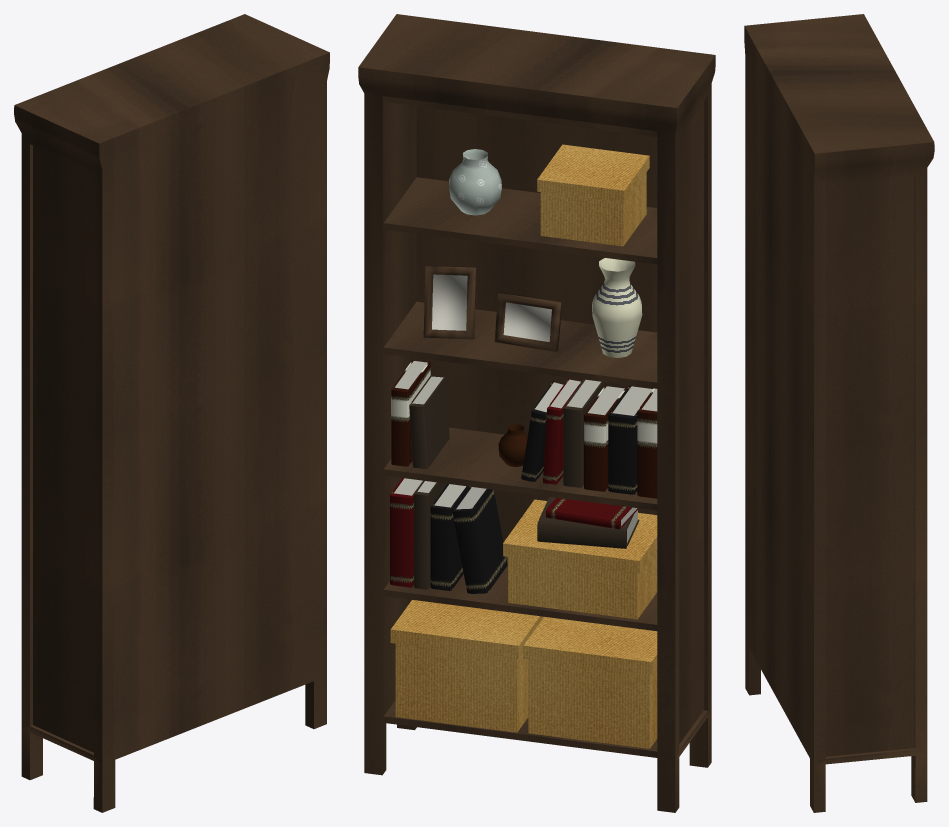
Rendered from bookcasetextured2.fbx.
3 renders of one model, left to right at view 1: azimuth 30°, elevation 25°; view 2: azimuth 150°, elevation 25°; view 3: azimuth 270°, elevation 25°, orthographic. The views are drawn at different scales.
Parts seen in each view (by area): view 1: bookcase; view 2: bookcase, box, box_1, box_2, box_3, book_3, vase, photo_frame, photo_frame_1, book_9, book_20, book_1 (+12 smaller); view 3: bookcase.
Boxes of the visible parts, box(x1,y1,x2,y2) form: bookcase: box(14, 14, 329, 812); bookcase: box(358, 14, 715, 812); box: box(390, 600, 543, 732); box_1: box(523, 617, 657, 748); box_2: box(503, 499, 657, 619); box_3: box(537, 144, 649, 246); book_3: box(452, 486, 507, 593); vase: box(592, 258, 642, 357); photo_frame: box(423, 265, 475, 339); photo_frame_1: box(494, 292, 561, 351); book_9: box(608, 385, 652, 494); book_20: box(409, 375, 449, 469); book_1: box(430, 484, 469, 590); bookcase: box(744, 14, 934, 812).
Size of the model in its own units: 216 by 475 by 124.
